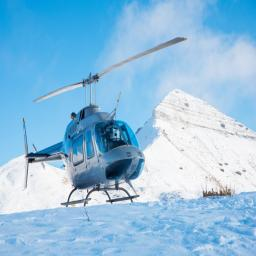helicopter: (21, 35, 199, 211)
